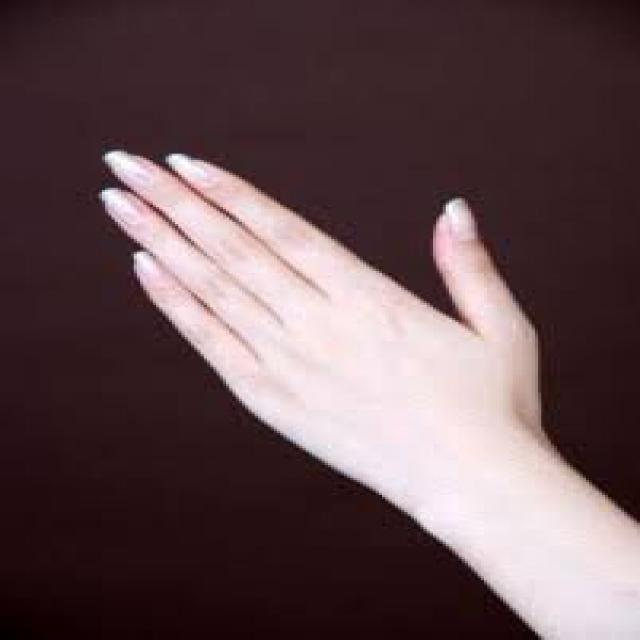bare_hand: (98, 147, 571, 529)
